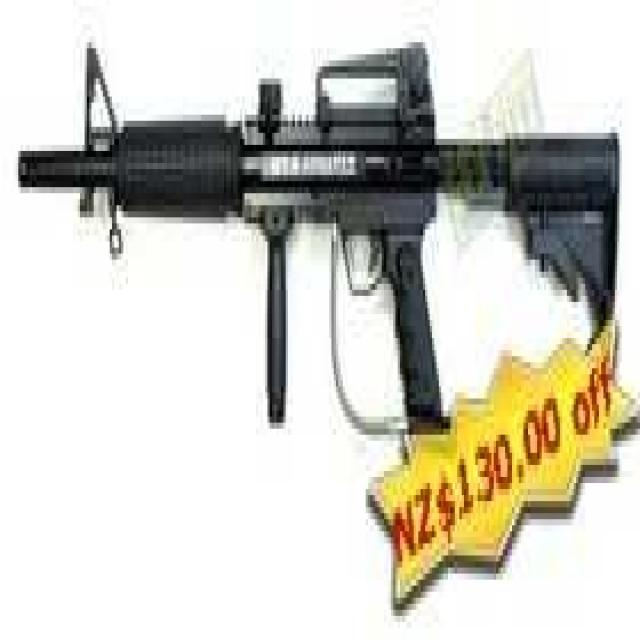Rifle: (12, 36, 625, 347)
